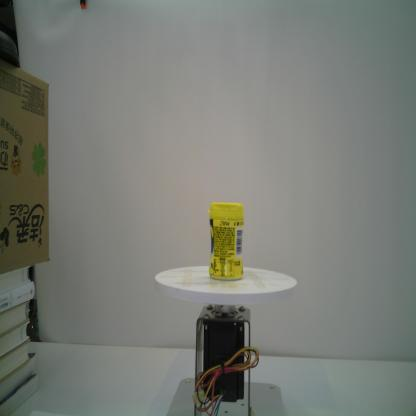Gum: (207, 202, 245, 281)
